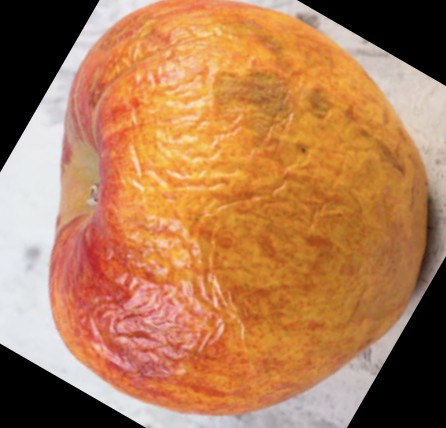rotten_apple: (47, 1, 431, 415)
